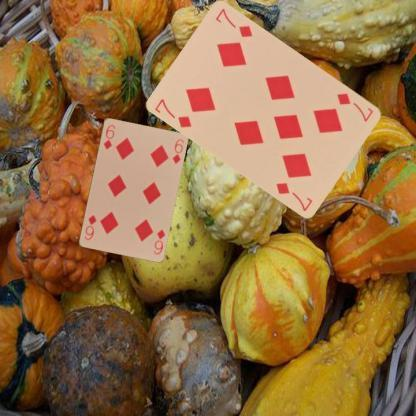6d: (150, 226, 166, 256), (101, 122, 116, 151)
7d: (152, 96, 194, 130), (334, 90, 376, 123)
